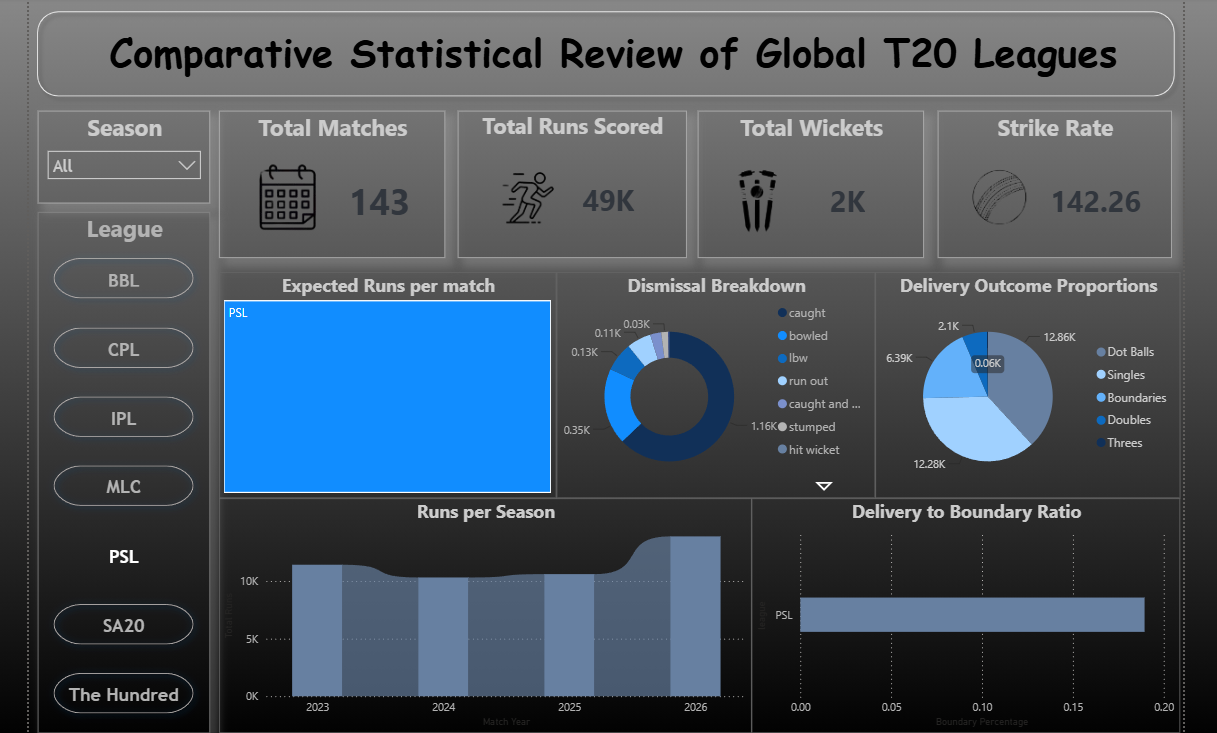

What the dashboard file says about the page in this screenshot:
{"tool":"powerbi","page":{"name":"Page 1","canvas":[1285,820],"ordinal":0},"visuals":[{"type":"cardVisual","title":"Total Matches","fields":{"Data":["public matches.Total Matches"]},"box":[211.7,126.7,252.1,164.3],"z":0},{"type":"advancedSlicerVisual","title":"League","fields":{"Values":["public matches.league"]},"box":[9.7,239.5,192.2,580.7],"z":1000},{"type":"cardVisual","title":"Total Wickets","fields":{"Data":["public deliveries.Wickets Taken"]},"box":[745.1,126.7,252.1,164.3],"z":2000},{"type":"slicer","title":"Season","fields":{"Values":["public matches.Match Year"]},"box":[9.7,126.7,192.2,103.1],"z":3000},{"type":"cardVisual","title":"Total Runs Scored","fields":{"Data":["Sum(public deliveries.runs_total)"]},"box":[477.7,126.7,254.9,164.3],"z":4000},{"type":"treemap","title":"Expected Runs per match","fields":{"Group":["public matches.league"],"Values":["public deliveries.Average Runs per match"]},"box":[211.7,306.4,376,252.1],"z":5000},{"type":"ribbonChart","title":"Runs per Season","fields":{"Category":["public matches.Match Year"],"Y":["public deliveries.Total Runs"]},"box":[211.7,558.5,593.3,261.8],"z":6000},{"type":"donutChart","title":"Dismissal Breakdown","fields":{"Y":["CountNonNull(public deliveries.dismissal_kind)"],"Category":["public deliveries.dismissal_kind"]},"box":[587.7,306.4,355.1,252.1],"z":7000},{"type":"pieChart","title":"Delivery Outcome Proportions","fields":{"Category":["public deliveries.Run_category"],"Y":["CountNonNull(public deliveries.Run_category)"]},"box":[942.8,306.4,339.8,252.1],"z":8000},{"type":"clusteredBarChart","title":"Delivery to Boundary Ratio","fields":{"Y":["public matches.Boundary Percentage"],"Category":["public matches.league"]},"box":[805,558.5,477.7,261.8],"z":9000},{"type":"shape","box":[0,7,1285.4,112.8],"z":10000},{"type":"textbox","box":[20.9,26.5,1242.3,85],"z":11000},{"type":"cardVisual","title":"Strike Rate","fields":{"Data":["public deliveries.Strike Rate"]},"box":[1012.5,126.7,260.4,164.3],"z":12000}]}

Visuals, with their boxes on the page's 1285x820 design canvas (x1, y1, x2, y2). These are canvas units, not pixel positions in the 1217x733 screenshot, which may show the page scaled, cropped or inside an application window:
"Total Matches" cardVisual: (left=212, top=127, right=464, bottom=291)
"League" advancedSlicerVisual: (left=10, top=240, right=202, bottom=820)
"Total Wickets" cardVisual: (left=745, top=127, right=997, bottom=291)
"Season" slicer: (left=10, top=127, right=202, bottom=230)
"Total Runs Scored" cardVisual: (left=478, top=127, right=733, bottom=291)
"Expected Runs per match" treemap: (left=212, top=306, right=588, bottom=558)
"Runs per Season" ribbonChart: (left=212, top=558, right=805, bottom=820)
"Dismissal Breakdown" donutChart: (left=588, top=306, right=943, bottom=558)
"Delivery Outcome Proportions" pieChart: (left=943, top=306, right=1283, bottom=558)
"Delivery to Boundary Ratio" clusteredBarChart: (left=805, top=558, right=1283, bottom=820)
shape: (left=0, top=7, right=1285, bottom=120)
textbox: (left=21, top=26, right=1263, bottom=112)
"Strike Rate" cardVisual: (left=1012, top=127, right=1273, bottom=291)
